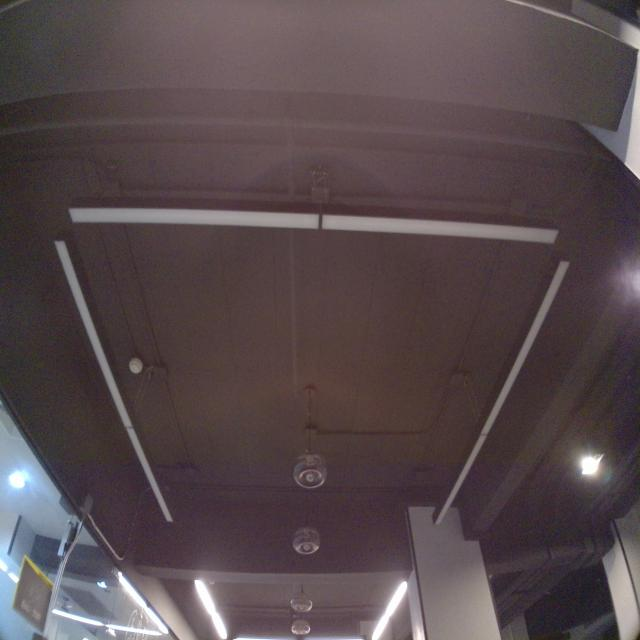lamp2_off: (427, 258, 582, 531), (47, 233, 183, 530), (63, 194, 573, 254)
